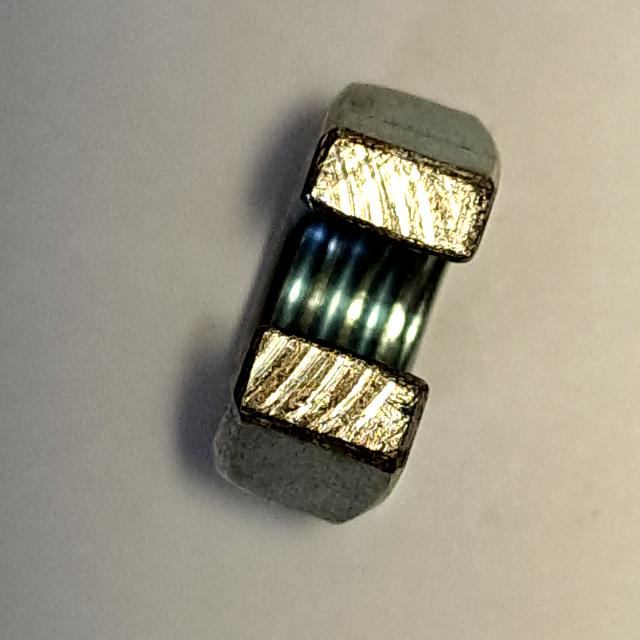Side-Fracture: (203, 68, 507, 540)
